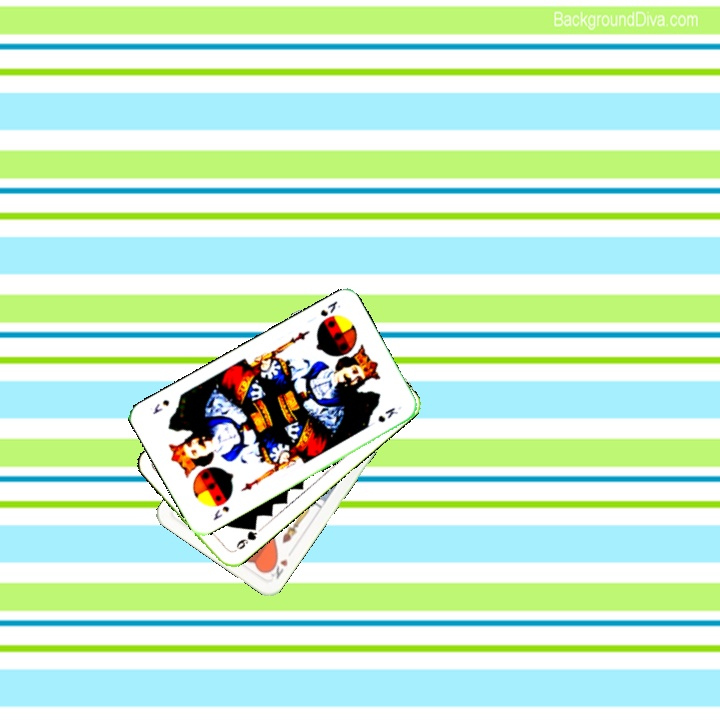G9: (232, 521, 259, 552)
HK: (263, 554, 290, 582)
SK: (316, 297, 343, 319), (209, 502, 232, 523)
